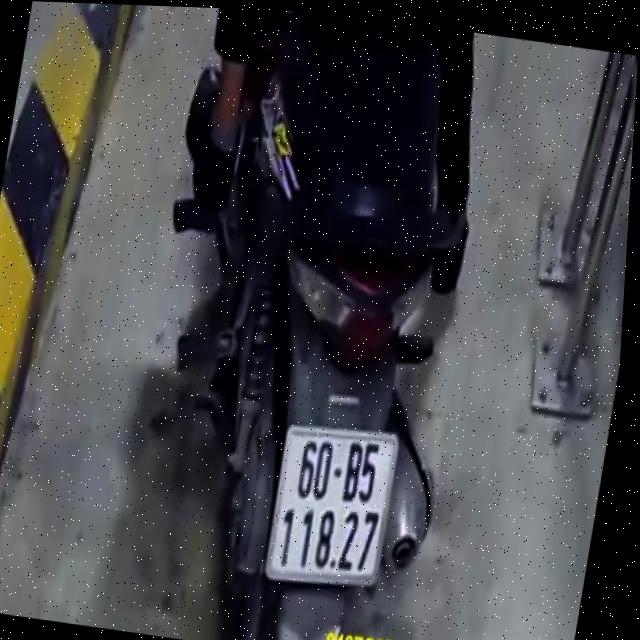motorcycle: (151, 7, 529, 640)
plate: (252, 413, 406, 597)
